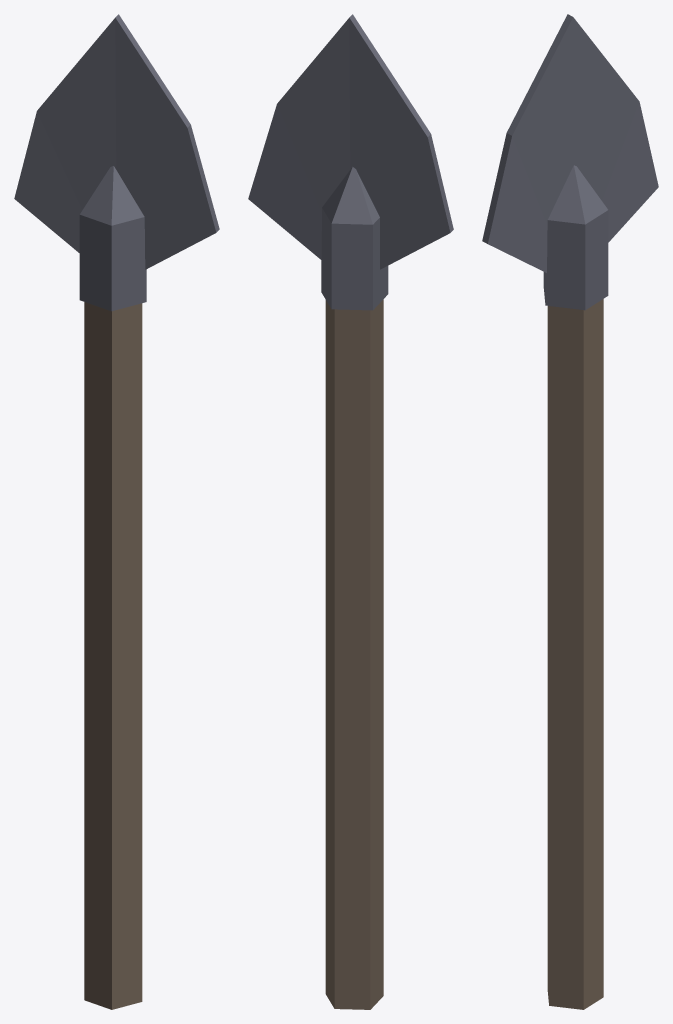
The model's file is Archer_shell_LVL_2.fbx.
3 views of the same model, side by side, from view 1: azimuth 30°, elevation 25°; view 2: azimuth 210°, elevation 25°; view 3: azimuth 270°, elevation 25° (orthographic).
Visible parts, largest first — view 1: Archer_shell_LVL_2; view 2: Archer_shell_LVL_2; view 3: Archer_shell_LVL_2.
Boxes of the visible parts, bbox=[...] form: Archer_shell_LVL_2: bbox=[14, 14, 219, 1009]; Archer_shell_LVL_2: bbox=[248, 14, 453, 1009]; Archer_shell_LVL_2: bbox=[482, 14, 658, 1009].
Bounding box in the file's own units: 28.57 × 218 × 35.52.
